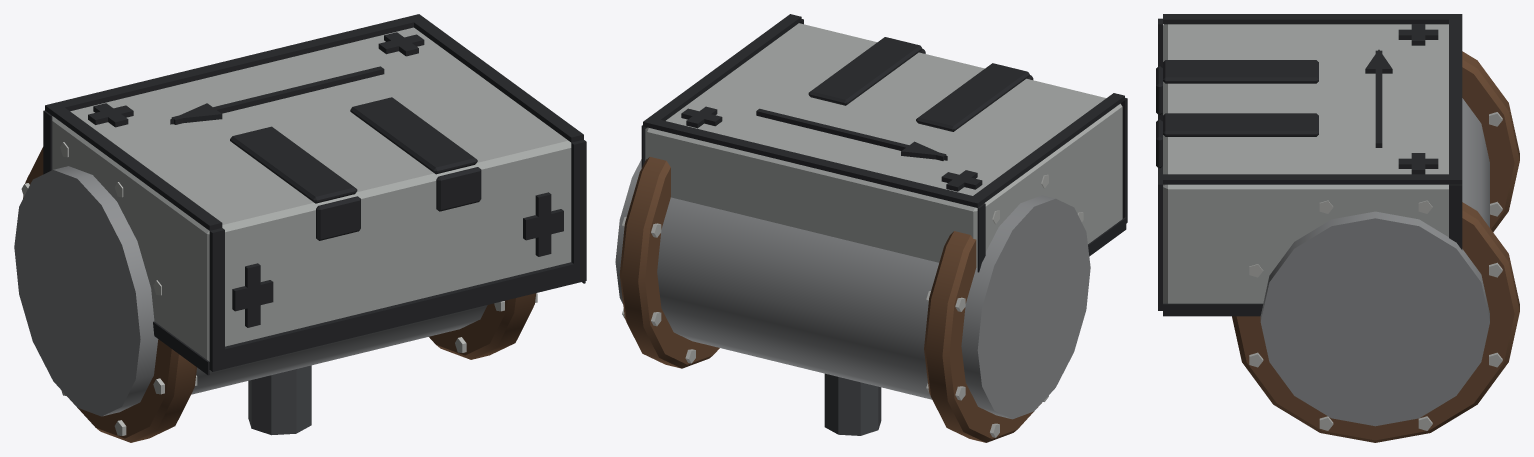
File: one-way-valve-west.glb
3 renders of one model, left to right at view 1: azimuth 30°, elevation 25°; view 2: azimuth 150°, elevation 25°; view 3: azimuth 270°, elevation 25°, orthographic. The views are drawn at different scales.
Visible parts, largest first — view 1: body; view 2: body; view 3: body.
Boxes of the visible parts, bbox=[...] form: body: bbox=[14, 14, 586, 442]; body: bbox=[615, 14, 1127, 442]; body: bbox=[1156, 14, 1519, 442].
Size of the model in its own units: 1 by 0.776 by 0.856.
